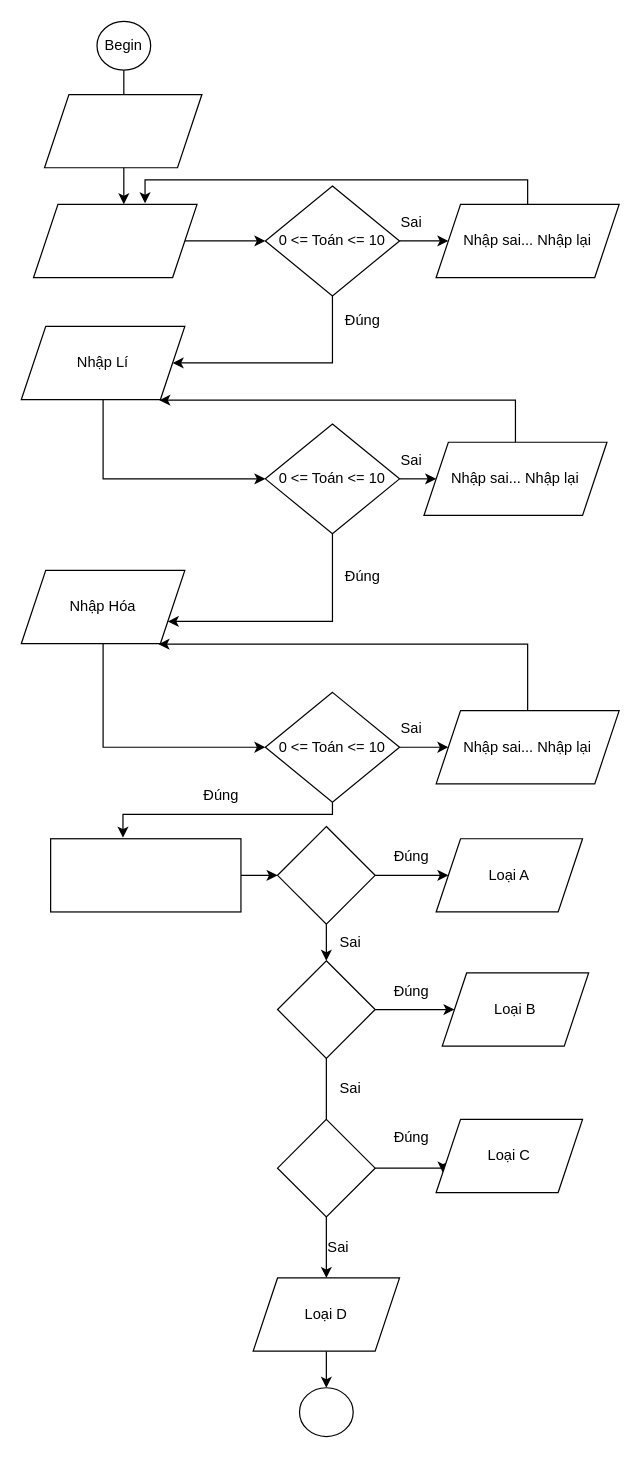
The diagram is 641 pixels wide and 1458 high, and some of its shapes have lost their labels. Each missing label, with the box of its shape:
End: (298, 1387, 353, 1437)
Nhập Toán: (32, 203, 197, 278)
Nhập Tên: (43, 93, 202, 168)
tb = ( toán + lí + hóa ) \ 3: (49, 838, 241, 912)
tb >= 5: (276, 1118, 375, 1217)
tb >= 7: (276, 960, 375, 1058)
tb >= 9: (276, 825, 375, 924)
